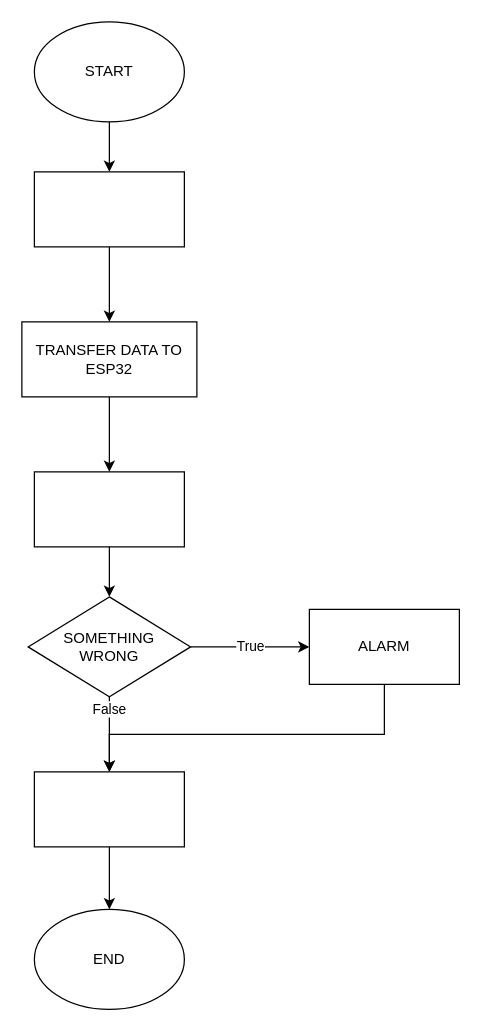
Image size: 481x1031. Some labels were removed from this diagram. The shapes that lost their labels are listed below. From the top down, each one's box as (x1, y1, x2, y2) in pixels, then its label:
(33, 171, 184, 247): READ DATA FROM SENSORS
(33, 471, 184, 547): COMPARE TO PRE-SET VALUES
(33, 771, 184, 847): PUSH DATA TO SERVER
